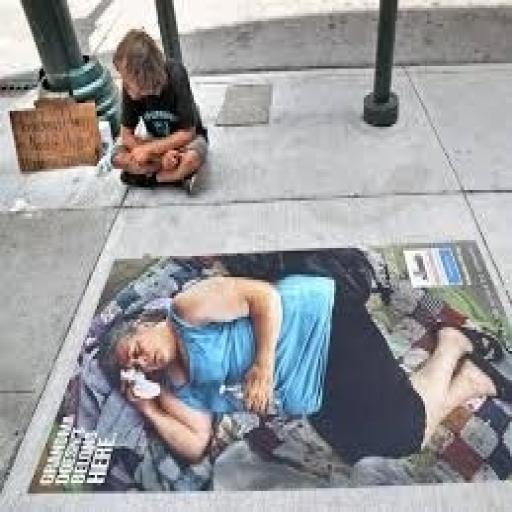sleeping: (107, 266, 510, 470), (106, 24, 212, 190)
